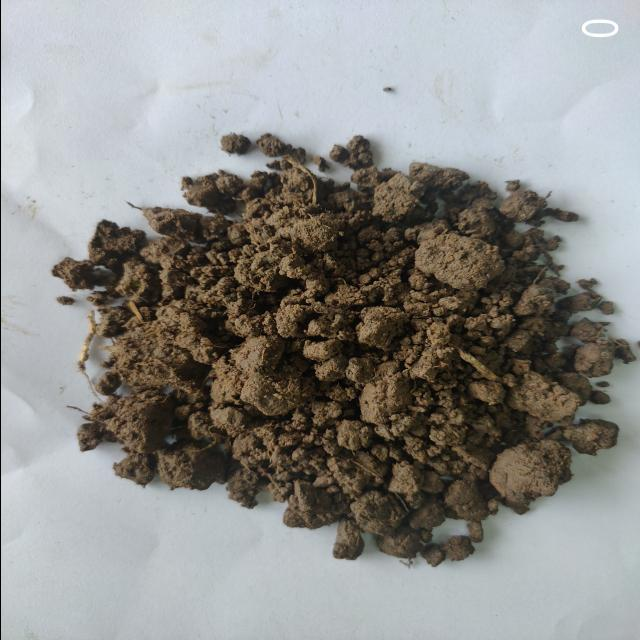soil: (142, 242, 538, 472)
